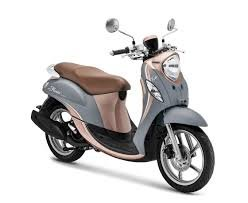motor: (30, 15, 216, 196)
